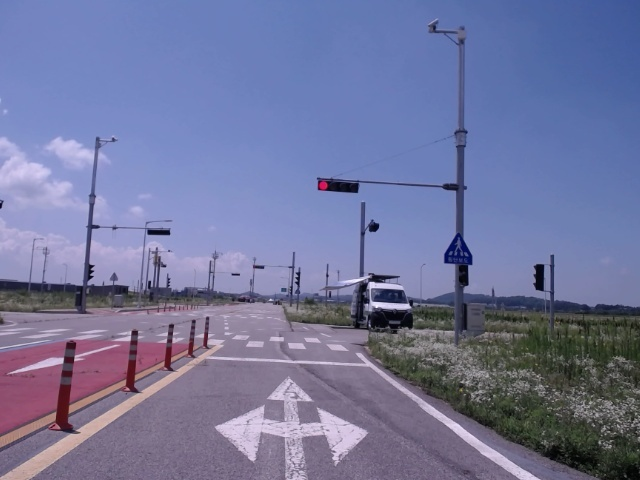red_4: (318, 181, 359, 193)
